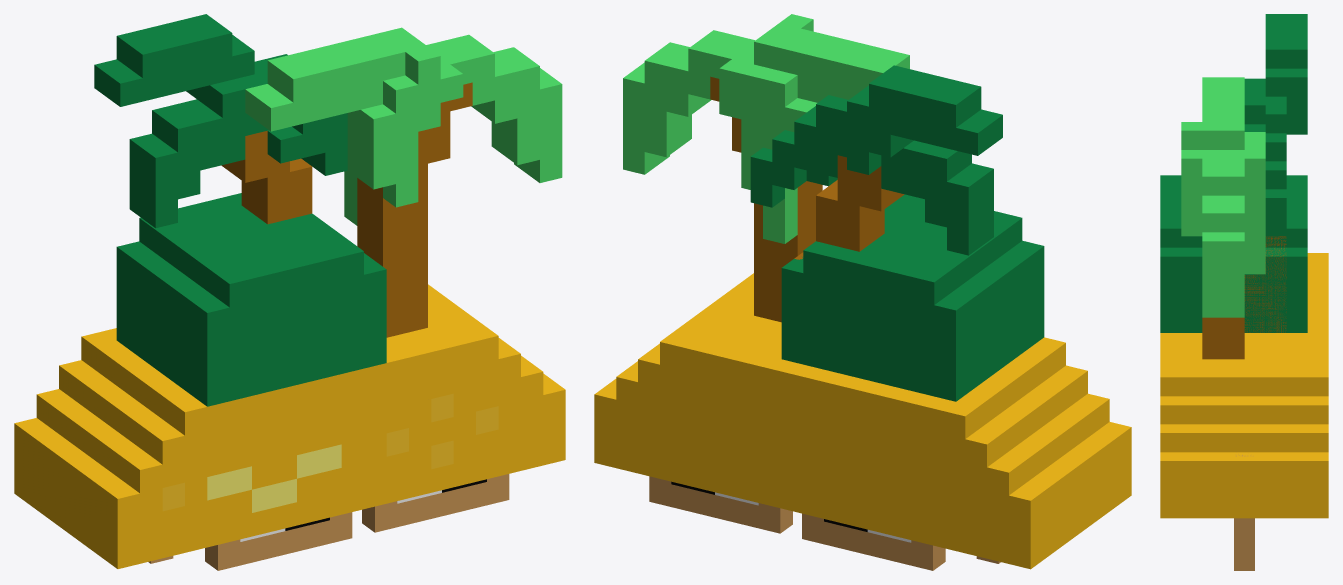
Rendered from island.glb.
The picture shows the model from 3 angles, left to right: view 1: azimuth 30°, elevation 25°; view 2: azimuth 150°, elevation 25°; view 3: azimuth 270°, elevation 25°; orthographic projection. The views are drawn at different scales.
Parts seen in each view (by area): view 1: base, palm, bush, glasses, mouth; view 2: base, palm, bush, glasses; view 3: base, palm, bush, glasses.
Boxes of the visible parts, <box> form: base: <box>14,284,565,568</box>; palm: <box>94,14,562,337</box>; bush: <box>116,193,386,406</box>; glasses: <box>148,474,509,570</box>; mouth: <box>207,444,341,512</box>; base: <box>594,273,1131,569</box>; palm: <box>623,14,1002,322</box>; bush: <box>781,194,1044,401</box>; glasses: <box>649,476,1000,570</box>; base: <box>1160,253,1328,518</box>; palm: <box>1181,14,1307,359</box>; bush: <box>1160,175,1307,332</box>; glasses: <box>1234,454,1254,570</box>.
Size of the model in its own units: 21 by 22 by 8.
13 materials, 13 textured.
